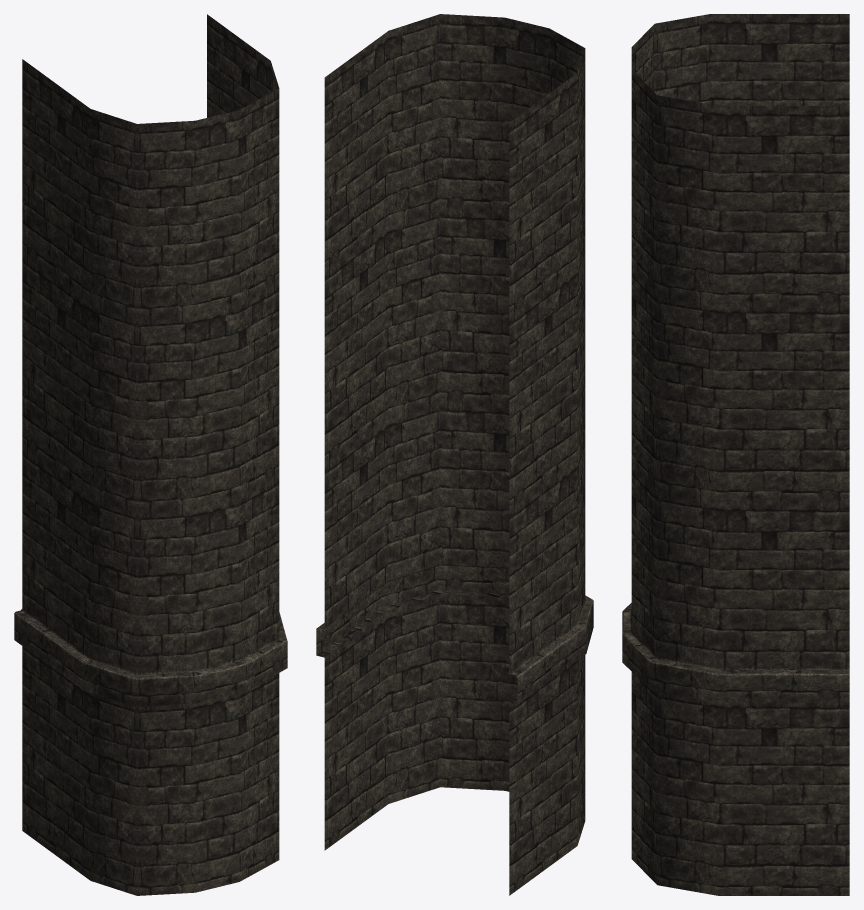
Rendered from wallBlockOR.fbx.
The picture shows the model from 3 angles, left to right: view 1: azimuth 30°, elevation 25°; view 2: azimuth 150°, elevation 25°; view 3: azimuth 270°, elevation 25°; orthographic projection. The views are drawn at different scales.
Parts seen in each view (by area): view 1: polySurface93; view 2: polySurface93; view 3: polySurface93.
Part boxes in pixels (<box>): polySurface93: <box>14,14,287,895</box>; polySurface93: <box>316,14,593,895</box>; polySurface93: <box>622,14,849,895</box>.
Size of the model in its own units: 2.18 by 8 by 2.09.
Materials: 1 (1 with a texture image).
